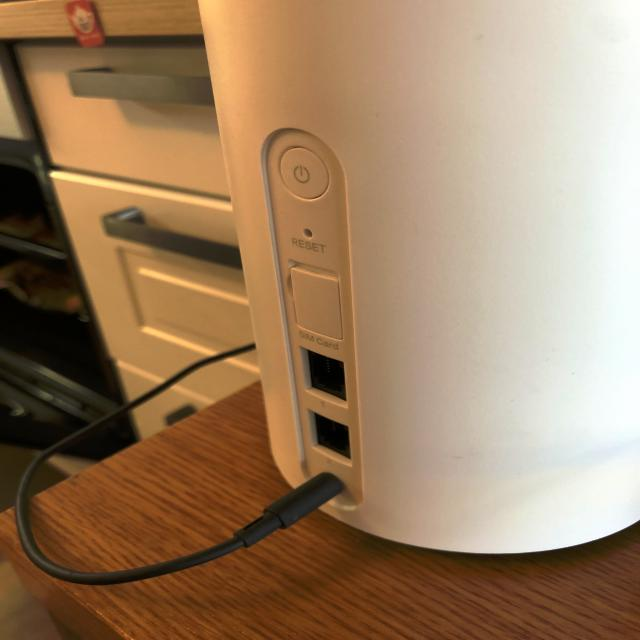lan: (296, 349, 357, 403), (309, 408, 355, 466)
modem: (210, 0, 640, 559)
onbutton: (275, 143, 333, 201)
powcab: (36, 470, 345, 597)
sim: (273, 257, 354, 346)
